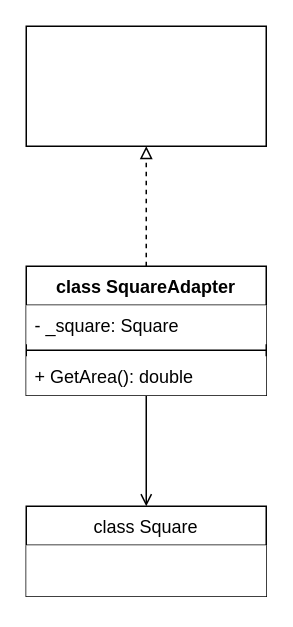
Image size: 293x627. Some labels were removed from this diagram. Each missing label, with the centre of its shape:
"+ width: double" goes at pixel 146 570.
"<<Interface>> IShape + GetArea(): double" goes at pixel 145 85.
